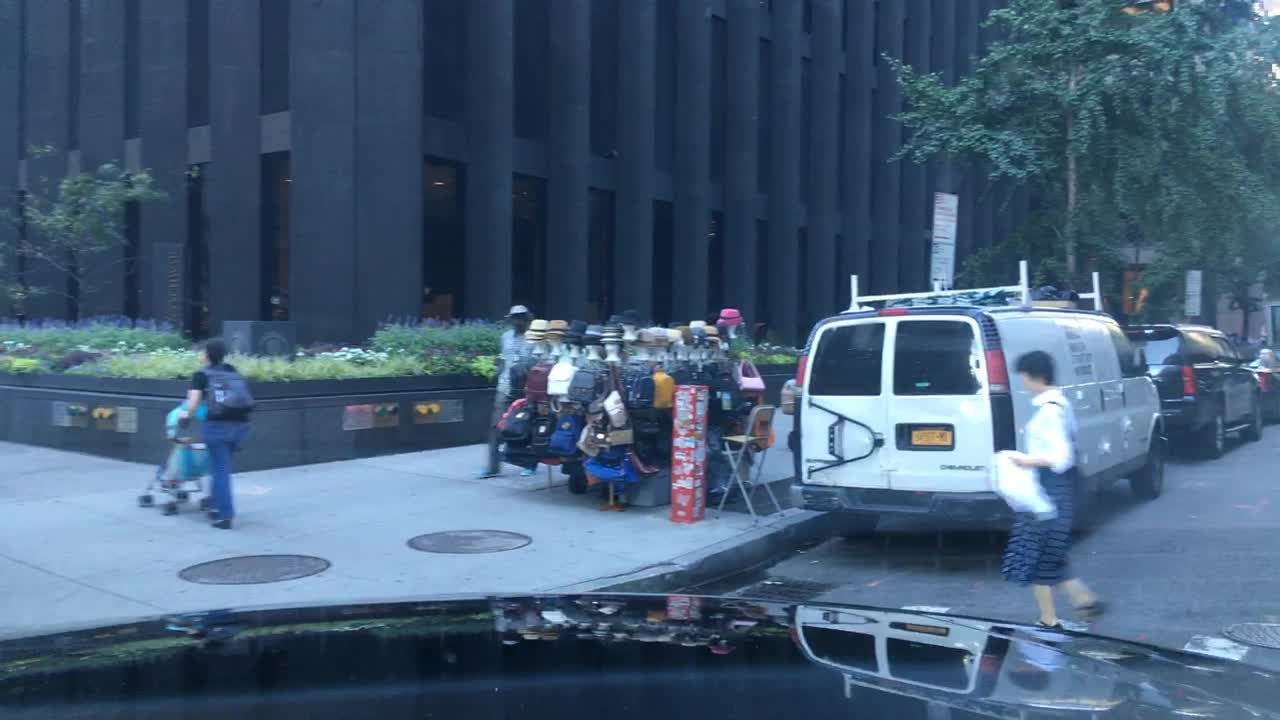car: (788, 258, 1166, 542), (1121, 322, 1265, 459), (1241, 341, 1279, 423)
person: (992, 349, 1106, 630), (176, 336, 257, 530), (477, 303, 536, 479)
traffic sign: (930, 191, 959, 289), (1183, 268, 1201, 317)
